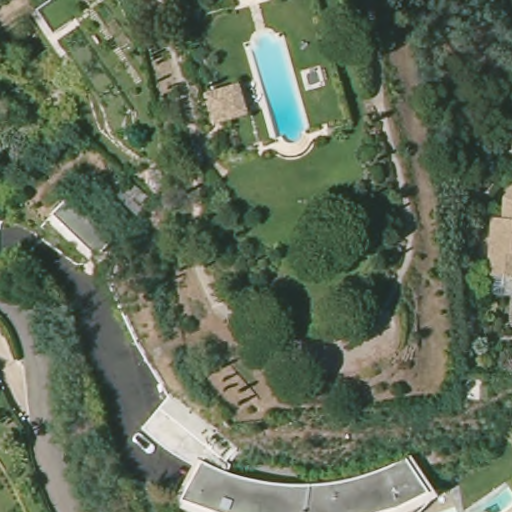pool: (244, 32, 312, 147), (464, 482, 512, 512)
